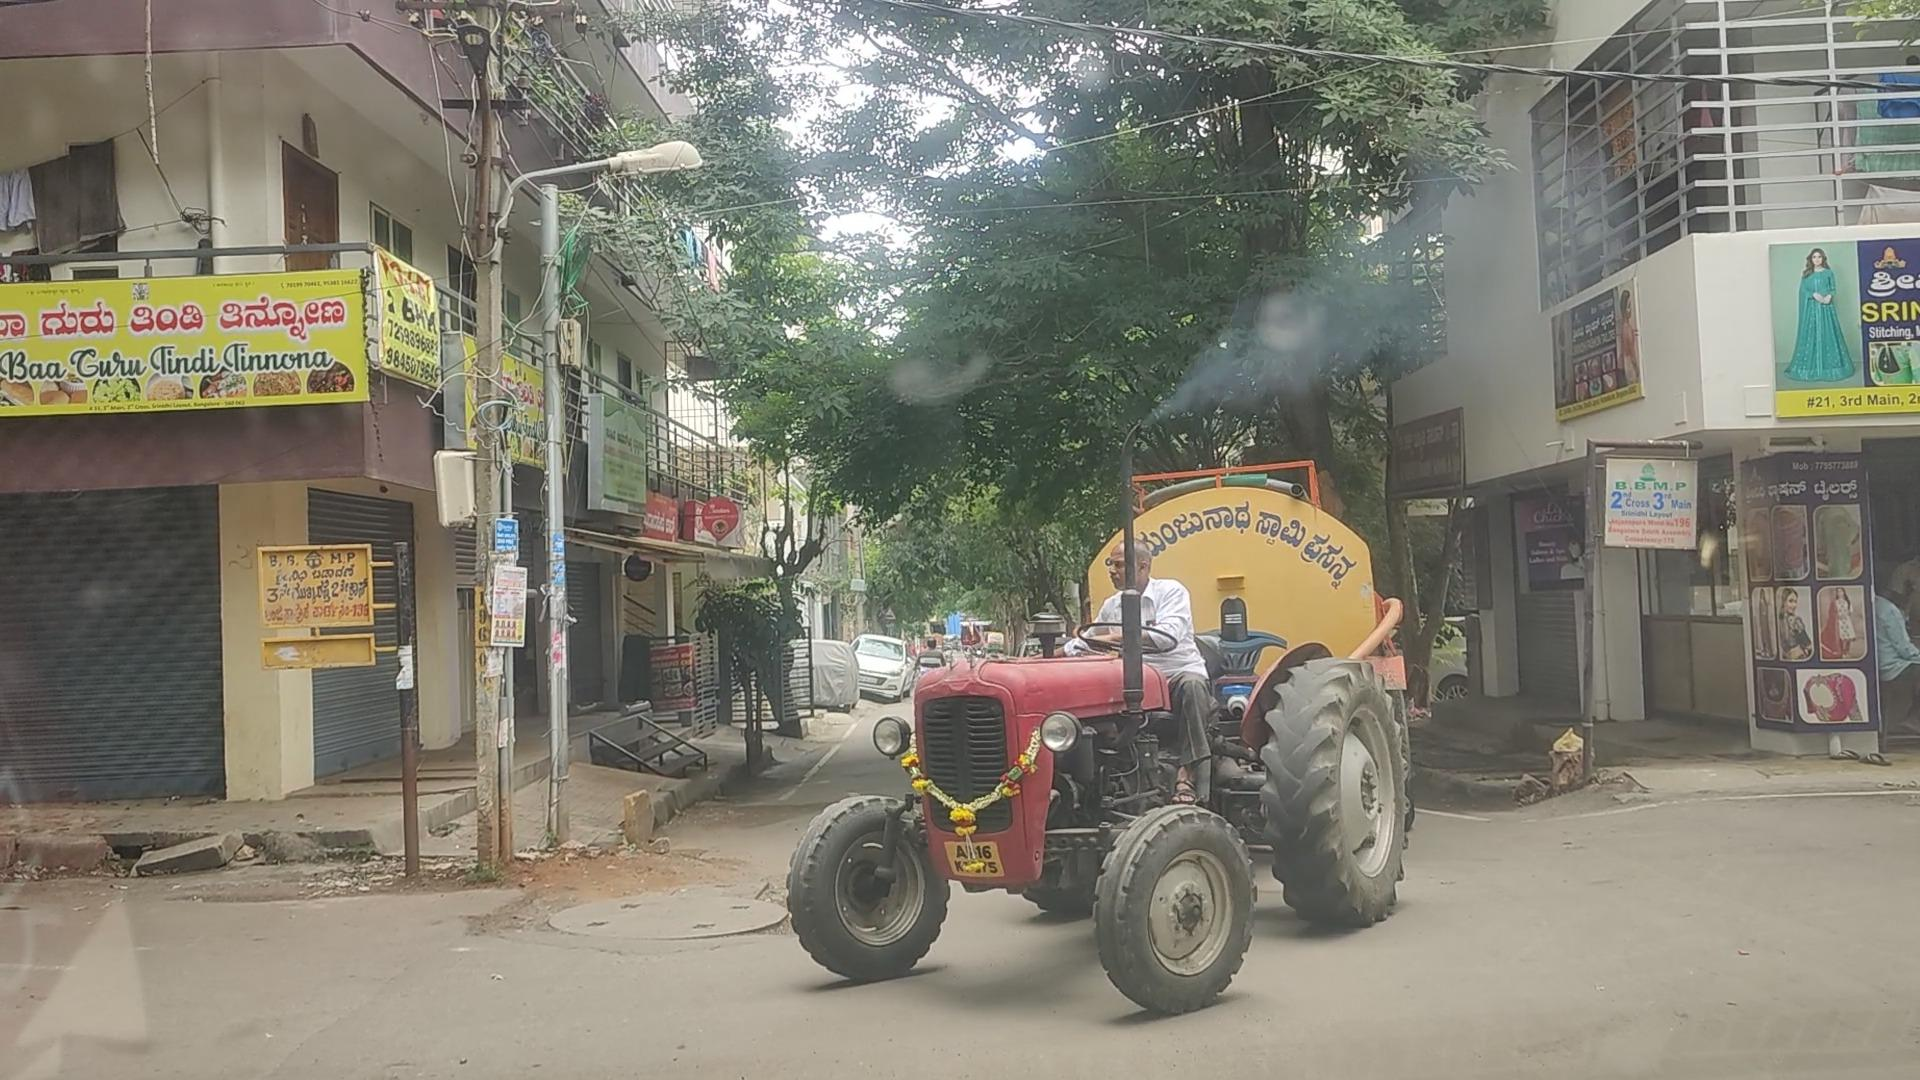HMV: (794, 427, 1406, 989)
RoadDamages: (422, 864, 779, 953)
